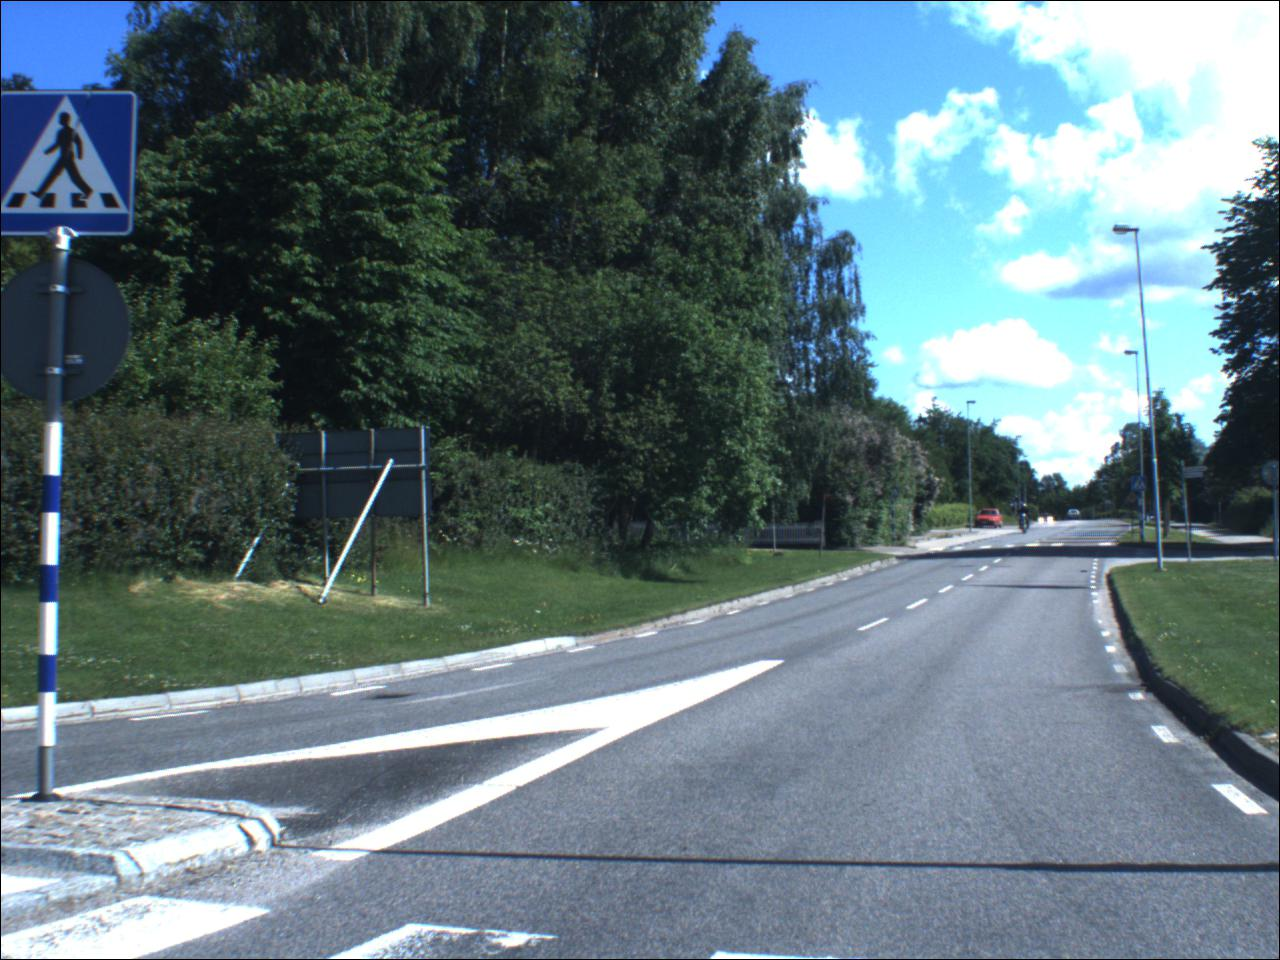PEDESTRIAN_CROSSING: (1, 92, 134, 244), (1131, 475, 1150, 492)
PRIORITY_ROAD: (1129, 495, 1140, 506)
